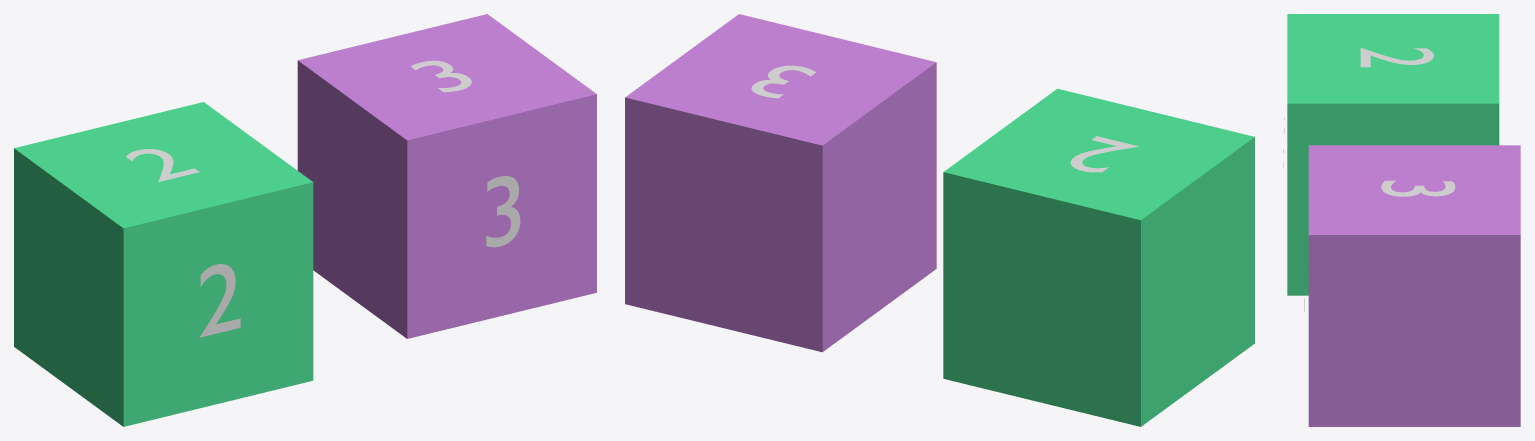
The model's file is Cubes.fbx.
3 renders of one model, left to right at view 1: azimuth 30°, elevation 25°; view 2: azimuth 150°, elevation 25°; view 3: azimuth 270°, elevation 25°, orthographic. The views are drawn at different scales.
Visible parts, largest first — view 1: Cube1, Cube2, Text.001, Text.003, Text, Text.002; view 2: Cube2, Cube1, Text, Text.002; view 3: Cube2, Cube1, Text, Text.002.
Boxes of the visible parts, x1,y1,x2,y2 form: Cube1: [14, 102, 313, 426]; Cube2: [297, 14, 596, 338]; Text.001: [199, 264, 240, 337]; Text.003: [486, 176, 520, 247]; Text: [126, 149, 199, 181]; Text.002: [411, 60, 471, 92]; Cube2: [625, 14, 936, 352]; Cube1: [943, 88, 1254, 426]; Text: [1070, 136, 1138, 172]; Text.002: [751, 65, 815, 98]; Cube2: [1308, 145, 1520, 426]; Cube1: [1287, 14, 1499, 295]; Text: [1360, 47, 1433, 67]; Text.002: [1381, 180, 1455, 196].
Size of the model in its own units: 511 by 209 by 224.
